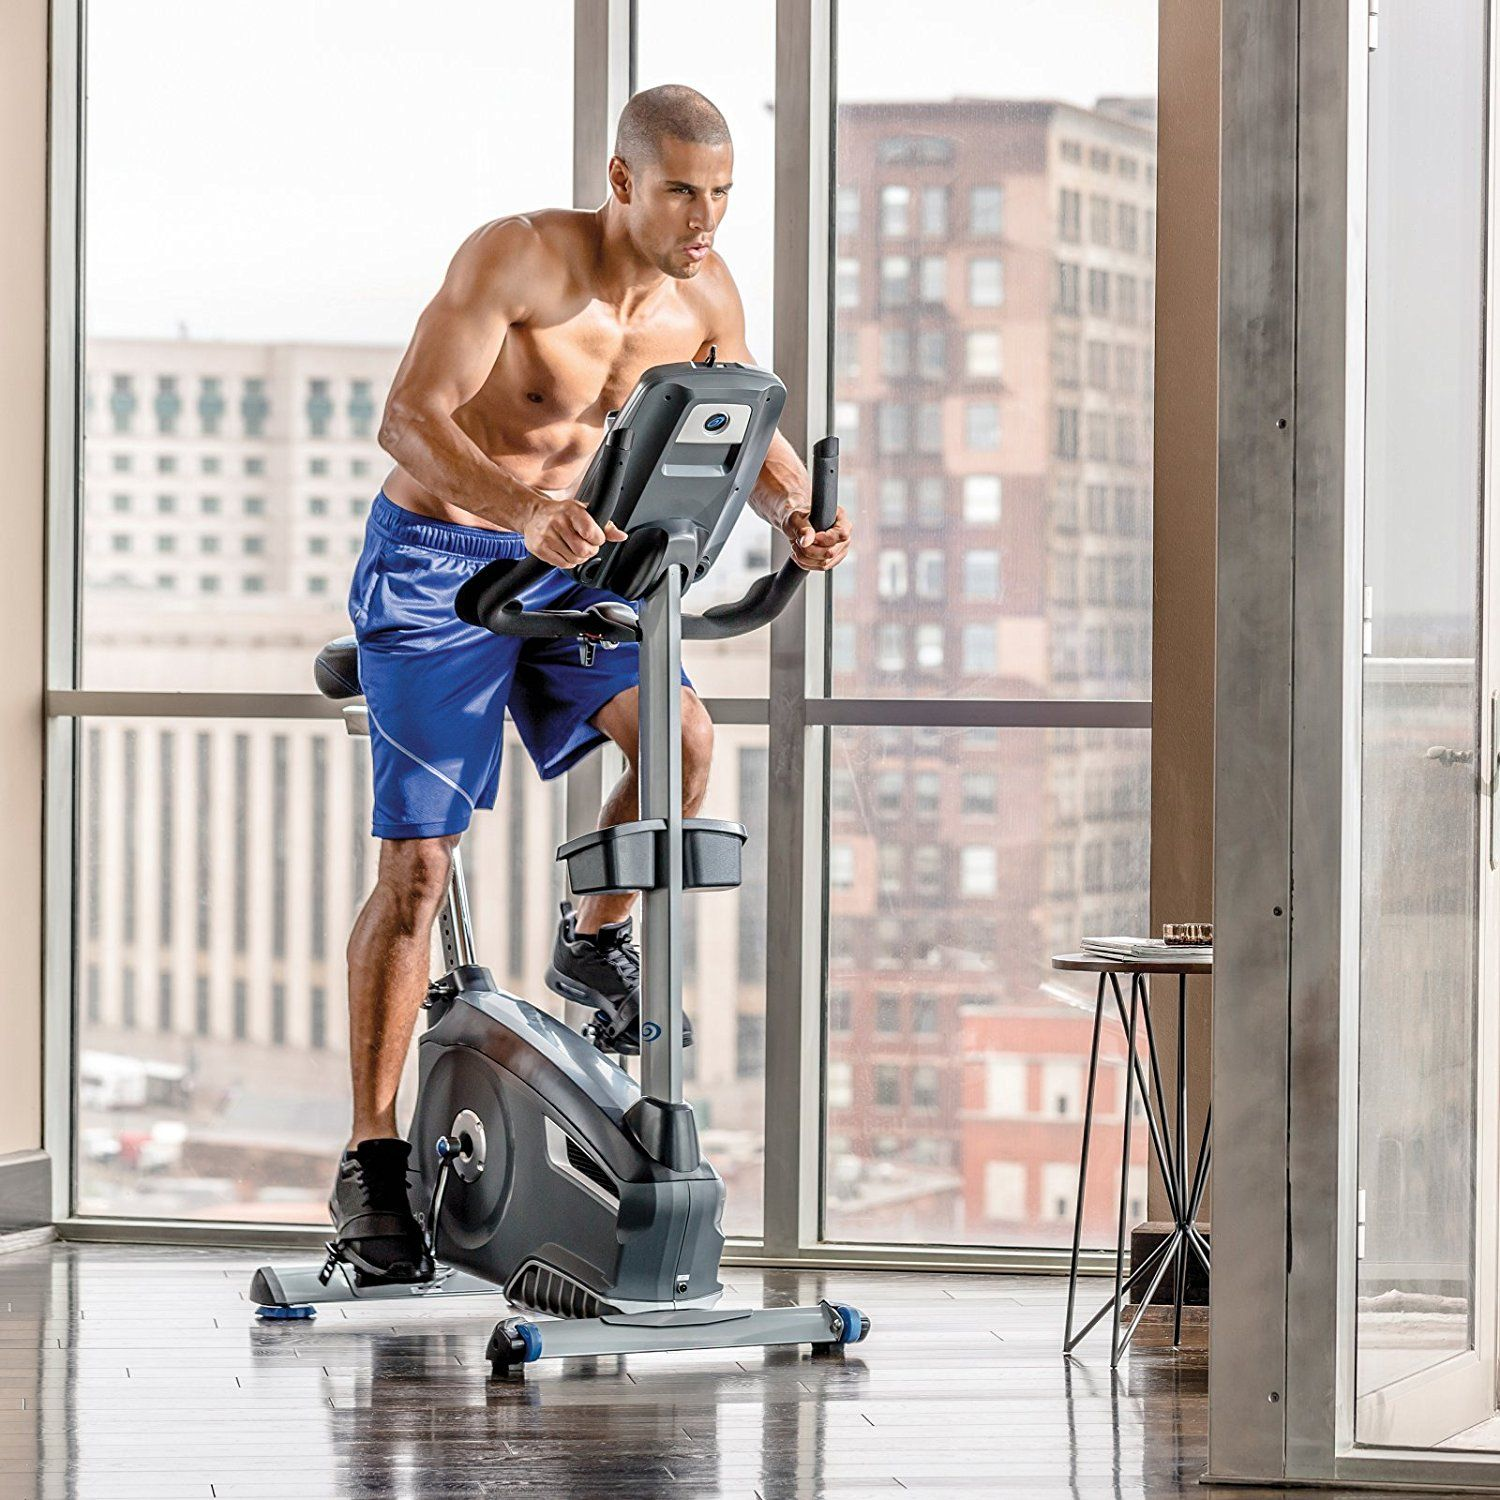gym_bike: (247, 349, 872, 1409)
